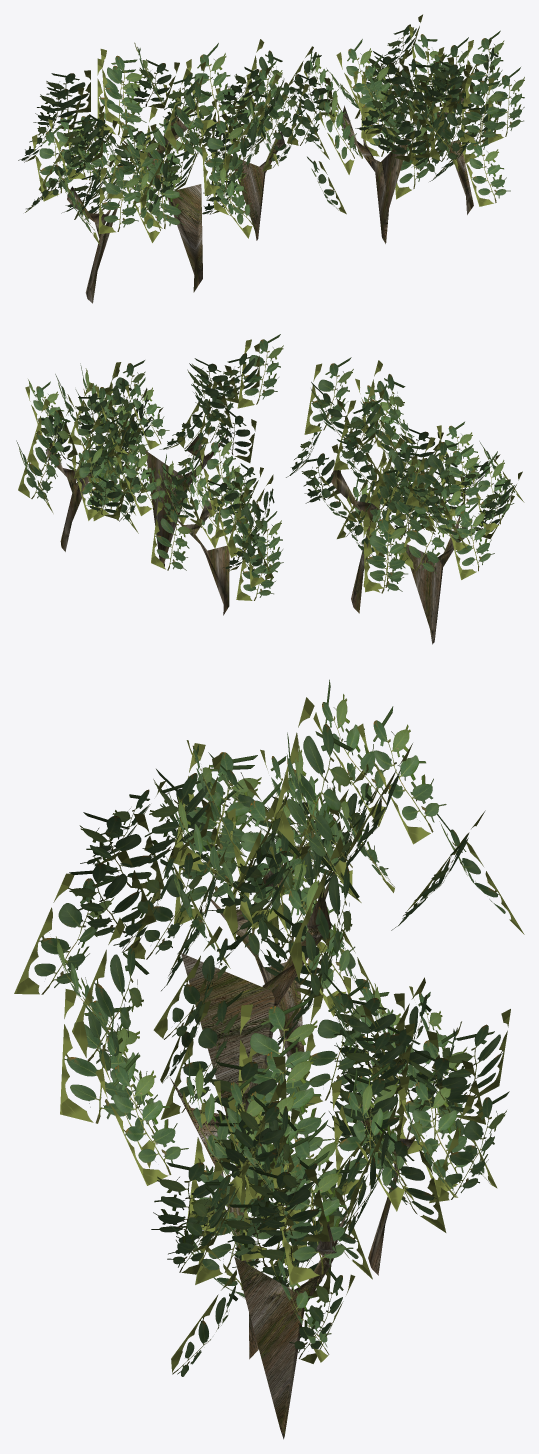
File: distant-tree-bank.mobile.glb
3 renders of one model, top to bottom at view 1: azimuth 30°, elevation 25°; view 2: azimuth 150°, elevation 25°; view 3: azimuth 270°, elevation 25°, orthographic. The views are drawn at different scales.
Parts seen in each view (by area): view 1: SA_G11_MESH_61, SA_G11_MESH_60; view 2: SA_G11_MESH_61, SA_G11_MESH_60; view 3: SA_G11_MESH_61, SA_G11_MESH_60.
Boxes of the visible parts, left/top/right/bottom form: SA_G11_MESH_61: left=18, top=14, right=524, bottom=245; SA_G11_MESH_60: left=67, top=91, right=473, bottom=303; SA_G11_MESH_61: left=16, top=334, right=524, bottom=600; SA_G11_MESH_60: left=46, top=431, right=466, bottom=644; SA_G11_MESH_61: left=14, top=679, right=524, bottom=1376; SA_G11_MESH_60: left=170, top=864, right=422, bottom=1439.
Size of the model in its own units: 18.09 by 8.94 by 9.13.
2 materials, 2 textured.
